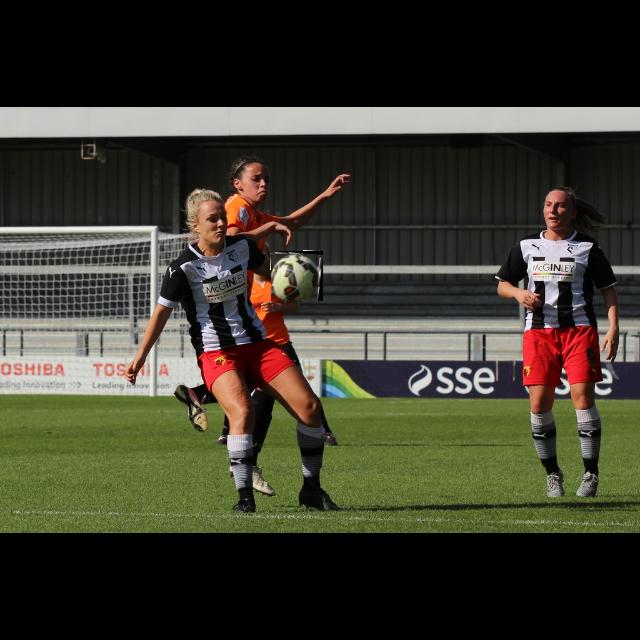Football: (271, 251, 323, 301)
